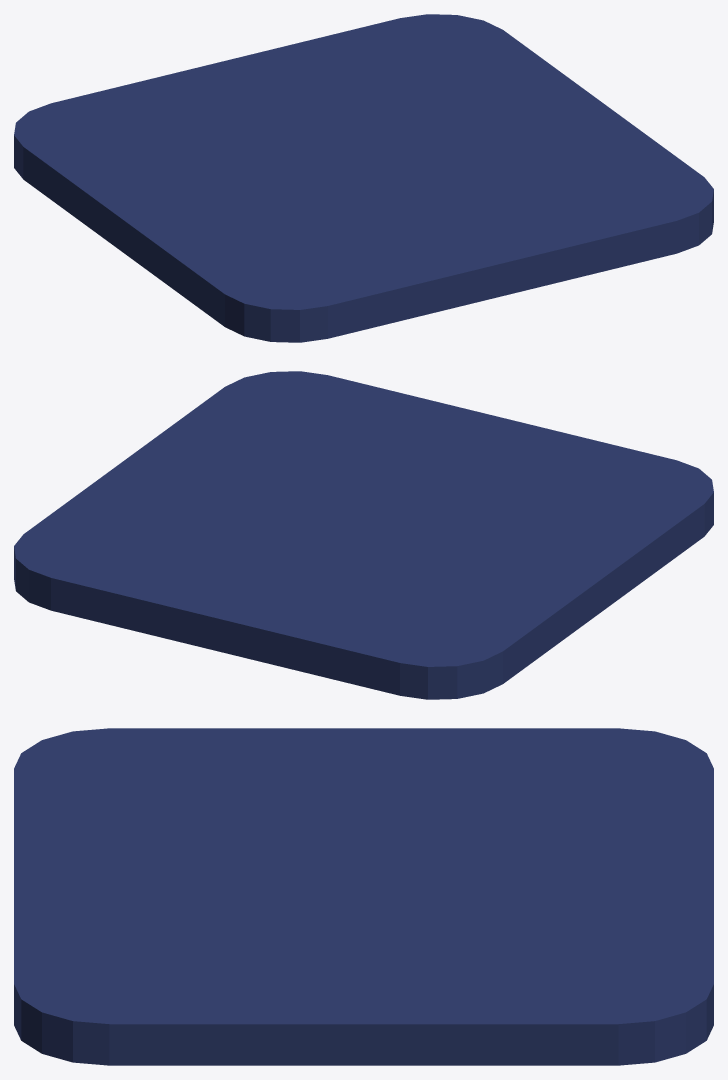
File: terrain_export_0001.glb
3 renders of one model, top to bottom at view 1: azimuth 30°, elevation 25°; view 2: azimuth 150°, elevation 25°; view 3: azimuth 270°, elevation 25°, orthographic. The views are drawn at different scales.
Parts seen in each view (by area): view 1: Ground; view 2: Ground; view 3: Ground.
Part boxes in pixels (box(x1,y1,x2,y2)): Ground: box(14, 14, 713, 342); Ground: box(14, 371, 713, 699); Ground: box(14, 728, 713, 1065).
Bounding box in the file's own units: 46.06 × 3.01 × 46.06.
